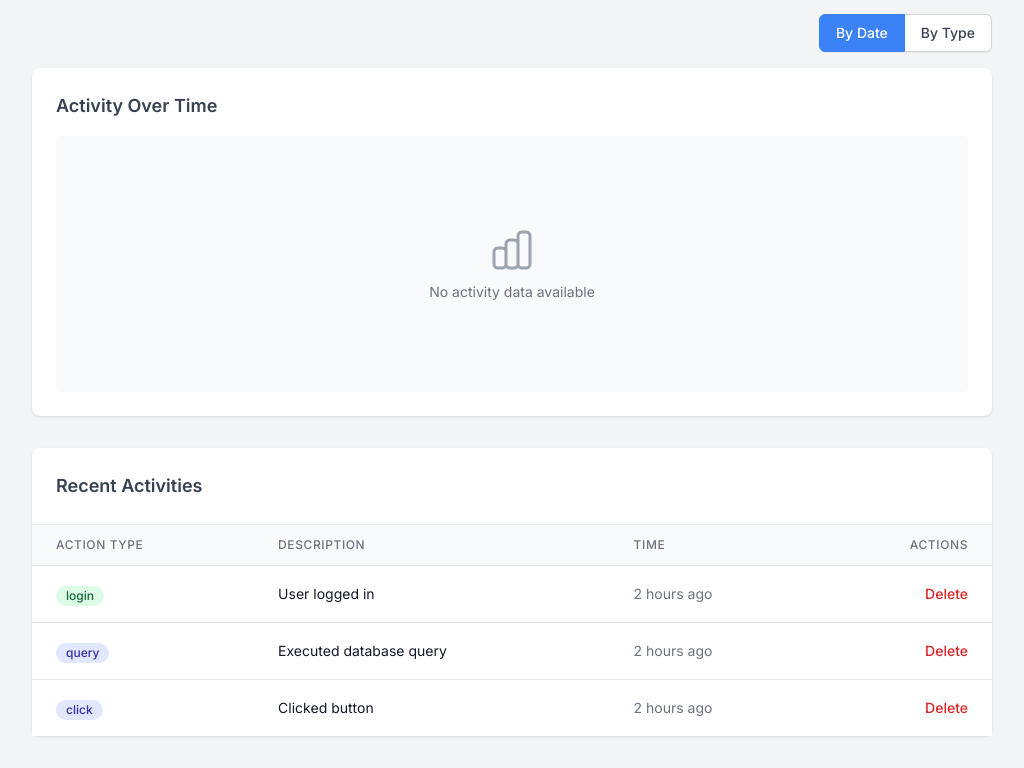
Test: Dashboard Page › Delete functionality › delete from list shows confirmation modal
(page scrolled)
Click the button "Delete" in the row of "login" at (947, 594), box [925,584,968,604]
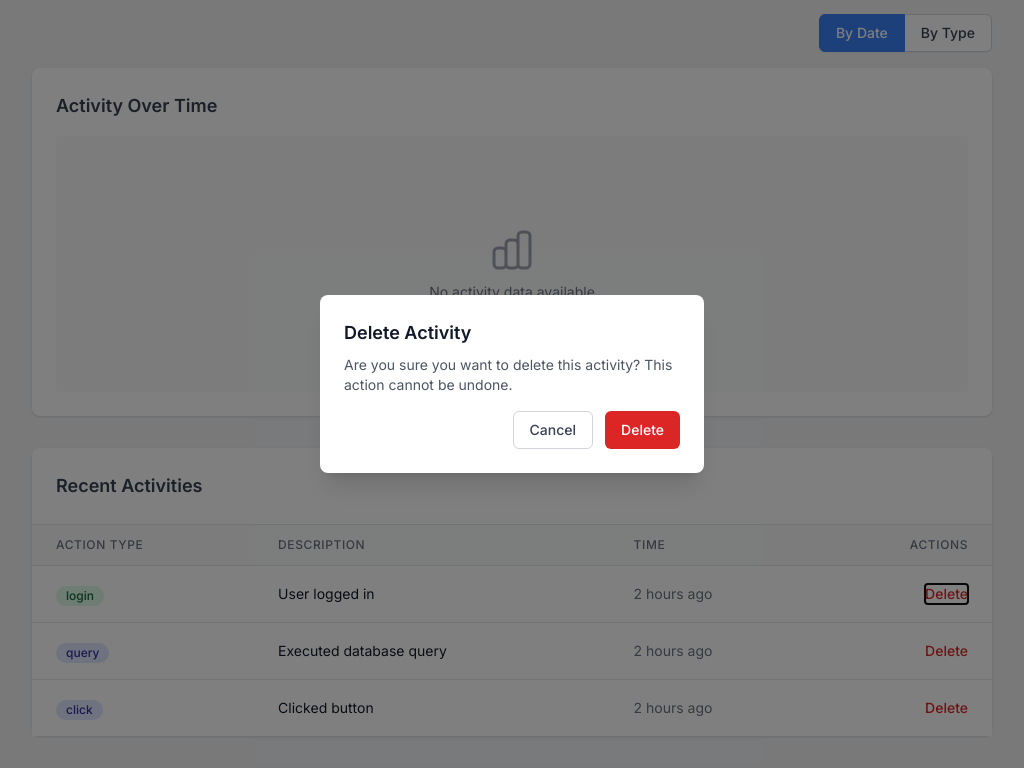
Expected: the heading "Delete Activity" is shown, [344,322,471,343]
Expected: the text "Are you sure you want to delete" is shown, [344,356,672,393]
